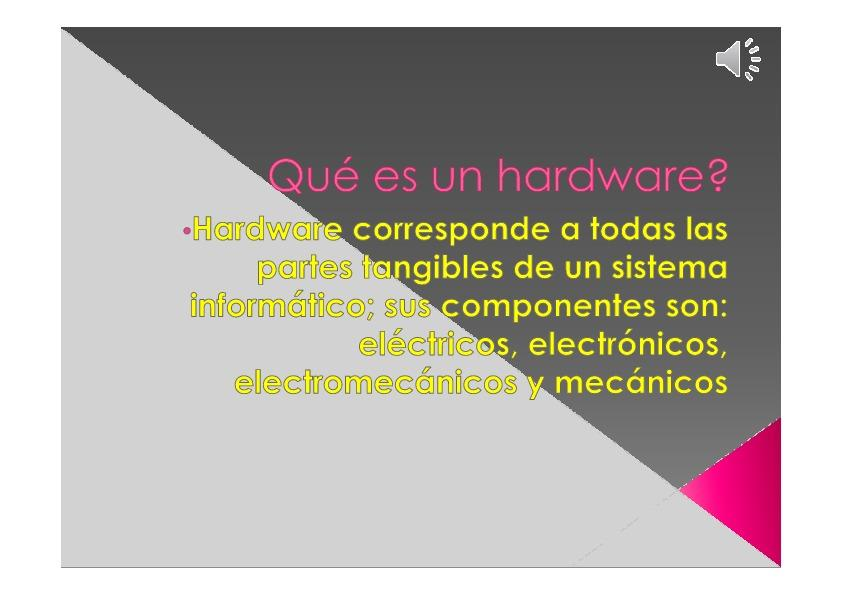paragraph: (165, 204, 765, 419)
title: (259, 136, 742, 204)
